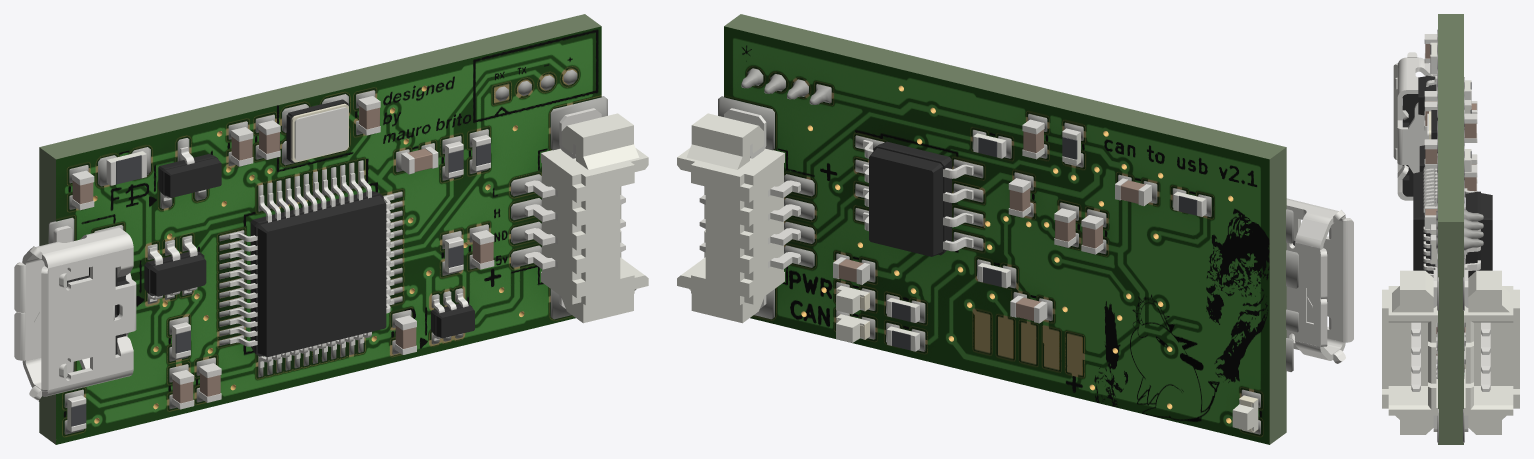
File: can2usb(blended).glb
The picture shows the model from 3 angles, left to right: view 1: azimuth 30°, elevation 25°; view 2: azimuth 150°, elevation 25°; view 3: azimuth 270°, elevation 25°; orthographic projection. The views are drawn at different scales.
Parts seen in each view (by area): view 1: PCB_can2usb3d, LQFP-48_7x7mm_P0.5mm, Molex_PicoBlade_53261-0471_1x04-1MP_P1.25mm_Horizontal.001, USB_Micro-B_Molex_47346-0001, Crystal_SMD_3225-4Pin_3.2x2.5mm, TSOP-6_1.65x3.05mm_P0.95mm, SOT-23, SOT-363_SC-70-6, R_0805_2012Metric, SOLDER_CAN1_CONN4_20_5, C_0603_1608Metric.006, C_0603_1608Metric.008 (+12 smaller); view 2: PCB_can2usb3d, Molex_PicoBlade_53261-0471_1x04-1MP_P1.25mm_Horizontal, SOIC-8_3.9x4.9mm_P1.27mm, USB_Micro-B_Molex_47346-0001, SOLDER_CAN1_CONN5_4_4, LED_0603_1608Metric, C_0603_1608Metric.011, LED_0603_1608Metric.002, LED_0603_1608Metric.001, C_0603_1608Metric.009, C_0603_1608Metric.015, C_0603_1608Metric.010 (+5 smaller); view 3: PCB_can2usb3d, Molex_PicoBlade_53261-0471_1x04-1MP_P1.25mm_Horizontal, Molex_PicoBlade_53261-0471_1x04-1MP_P1.25mm_Horizontal.001, USB_Micro-B_Molex_47346-0001, LQFP-48_7x7mm_P0.5mm, SOIC-8_3.9x4.9mm_P1.27mm, SOT-23, C_0603_1608Metric.005, C_0603_1608Metric.015, Crystal_SMD_3225-4Pin_3.2x2.5mm, C_0603_1608Metric.011, C_0603_1608Metric.002 (+12 smaller).
Boxes of the visible parts, left/top/right/bottom form: PCB_can2usb3d: left=39, top=14, right=601, bottom=444; LQFP-48_7x7mm_P0.5mm: left=229, top=170, right=394, bottom=367; Molex_PicoBlade_53261-0471_1x04-1MP_P1.25mm_Horizontal.001: left=524, top=108, right=648, bottom=323; USB_Micro-B_Molex_47346-0001: left=14, top=225, right=136, bottom=400; Crystal_SMD_3225-4Pin_3.2x2.5mm: left=286, top=99, right=348, bottom=162; TSOP-6_1.65x3.05mm_P0.95mm: left=144, top=238, right=206, bottom=301; SOT-23: left=158, top=147, right=221, bottom=200; SOT-363_SC-70-6: left=431, top=293, right=474, bottom=340; R_0805_2012Metric: left=106, top=151, right=146, bottom=185; SOLDER_CAN1_CONN4_20_5: left=550, top=96, right=607, bottom=150; C_0603_1608Metric.006: left=231, top=127, right=253, bottom=166; C_0603_1608Metric.008: left=472, top=230, right=494, bottom=269; PCB_can2usb3d: left=724, top=14, right=1286, bottom=444; Molex_PicoBlade_53261-0471_1x04-1MP_P1.25mm_Horizontal: left=677, top=108, right=800, bottom=323; SOIC-8_3.9x4.9mm_P1.27mm: left=863, top=140, right=973, bottom=256; USB_Micro-B_Molex_47346-0001: left=1286, top=198, right=1353, bottom=363; SOLDER_CAN1_CONN5_4_4: left=718, top=96, right=774, bottom=150; LED_0603_1608Metric: left=1232, top=395, right=1258, bottom=432; C_0603_1608Metric.011: left=1008, top=178, right=1030, bottom=217; LED_0603_1608Metric.002: left=836, top=285, right=869, bottom=314; LED_0603_1608Metric.001: left=836, top=314, right=869, bottom=342; C_0603_1608Metric.009: left=1010, top=295, right=1047, bottom=323; C_0603_1608Metric.015: left=1022, top=119, right=1044, bottom=159; C_0603_1608Metric.010: left=1081, top=215, right=1103, bottom=254; PCB_can2usb3d: left=1438, top=14, right=1463, bottom=444; Molex_PicoBlade_53261-0471_1x04-1MP_P1.25mm_Horizontal: left=1464, top=270, right=1519, bottom=434; Molex_PicoBlade_53261-0471_1x04-1MP_P1.25mm_Horizontal.001: left=1382, top=270, right=1437, bottom=434; USB_Micro-B_Molex_47346-0001: left=1393, top=52, right=1437, bottom=200; LQFP-48_7x7mm_P0.5mm: left=1413, top=167, right=1437, bottom=277; SOIC-8_3.9x4.9mm_P1.27mm: left=1464, top=188, right=1492, bottom=277; SOT-23: left=1418, top=75, right=1437, bottom=115; C_0603_1608Metric.005: left=1424, top=139, right=1437, bottom=168; C_0603_1608Metric.015: left=1464, top=113, right=1477, bottom=142; Crystal_SMD_3225-4Pin_3.2x2.5mm: left=1427, top=110, right=1437, bottom=153; C_0603_1608Metric.011: left=1464, top=167, right=1477, bottom=191; C_0603_1608Metric.002: left=1424, top=206, right=1437, bottom=229.
Size of the model in its own units: 13.89 by 6.29 by 3.52.
24 materials, 1 textured.
